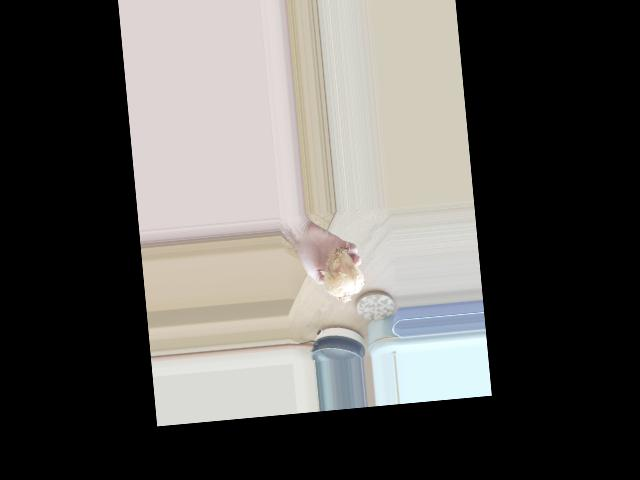onion: (320, 242, 367, 302)
